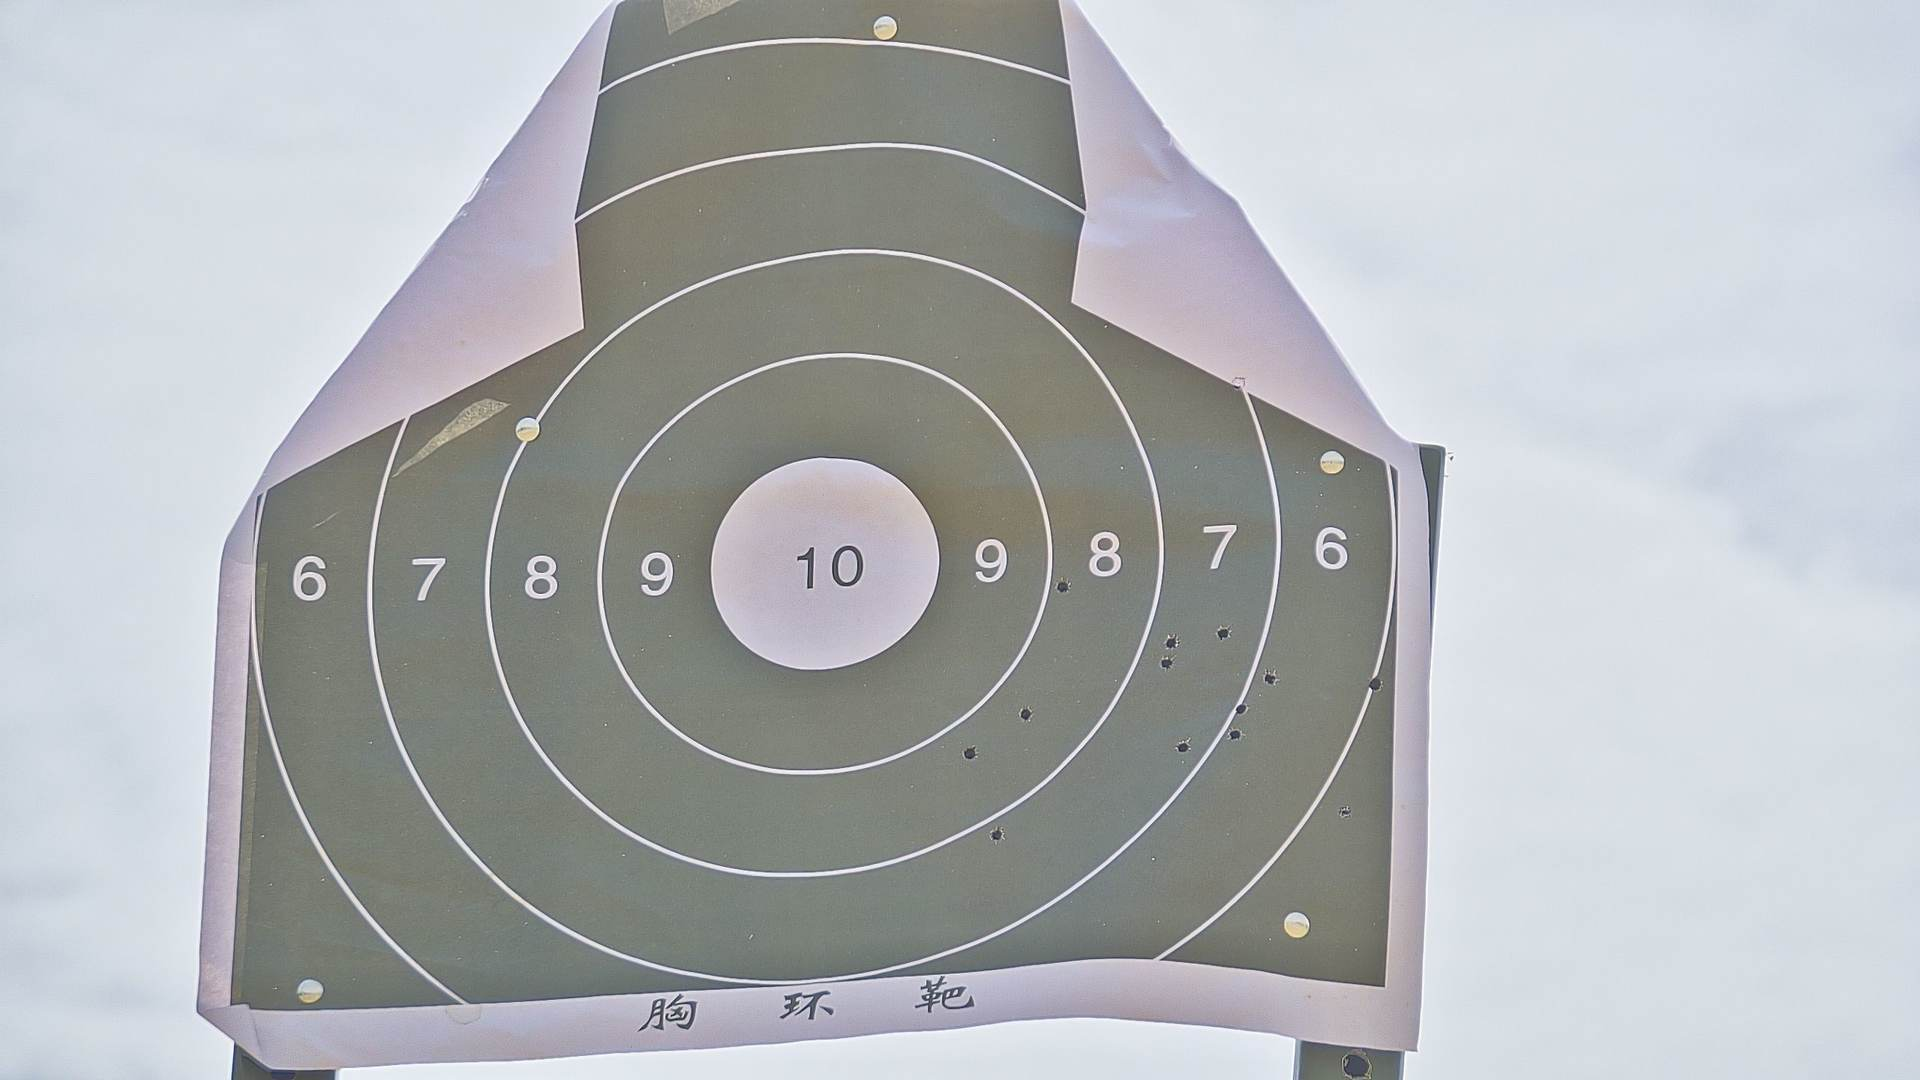hole: (1017, 707, 1034, 723), (1370, 676, 1385, 694), (963, 746, 978, 761), (1175, 740, 1189, 756), (1228, 727, 1244, 741), (1055, 580, 1072, 593), (990, 825, 1004, 843), (1216, 626, 1232, 640), (1265, 673, 1278, 686), (1164, 636, 1178, 647), (1236, 702, 1247, 715), (1159, 658, 1174, 669), (1340, 807, 1352, 818)
kernel: (819, 567, 827, 570)
target: (233, 5, 1390, 997)
ten: (705, 455, 942, 673)
